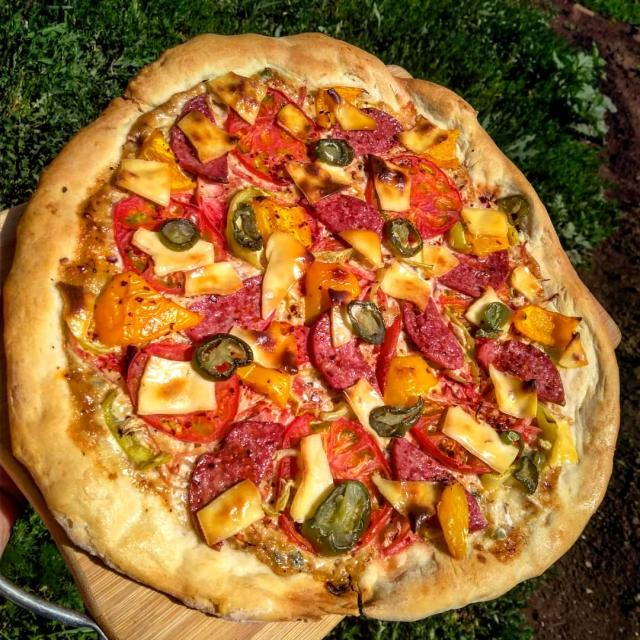pizza: (0, 28, 625, 627)
tomatoes: (277, 417, 401, 554), (122, 341, 243, 444), (112, 195, 228, 299), (225, 88, 322, 186), (366, 152, 464, 242), (413, 414, 499, 476)
